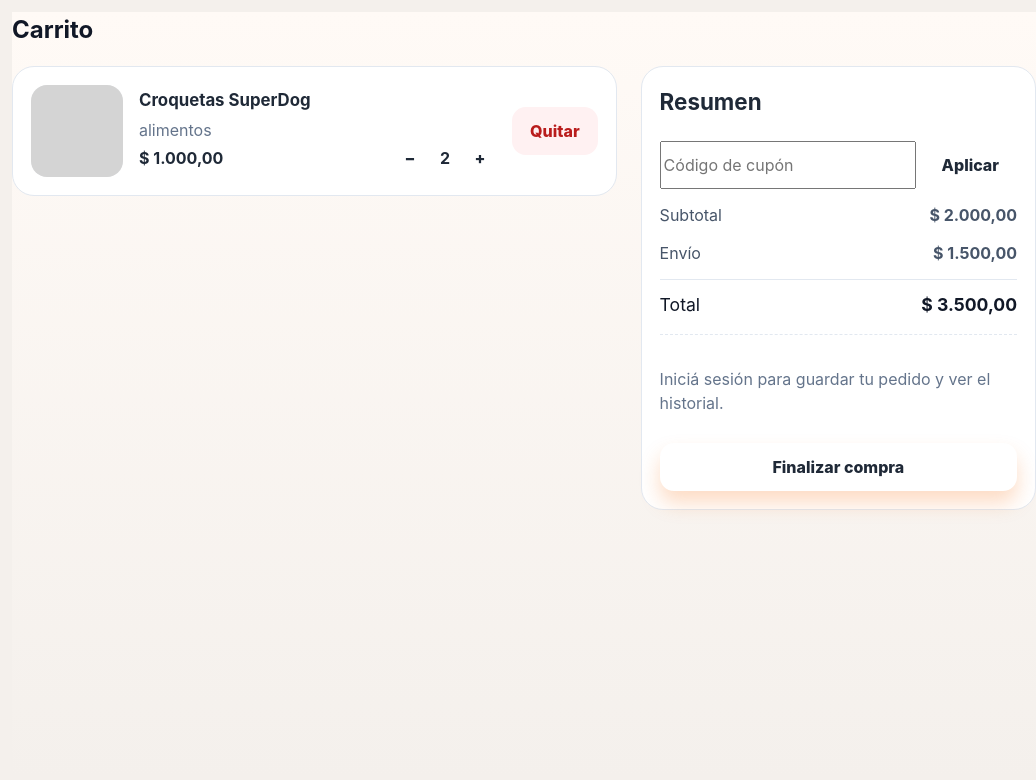
Test: CartScreen › shows an error message when the coupon is rejected
Step 1. Type "NOPE" into the field with placeholder "Código de cupón" → (788, 165), box [660,141,916,189]
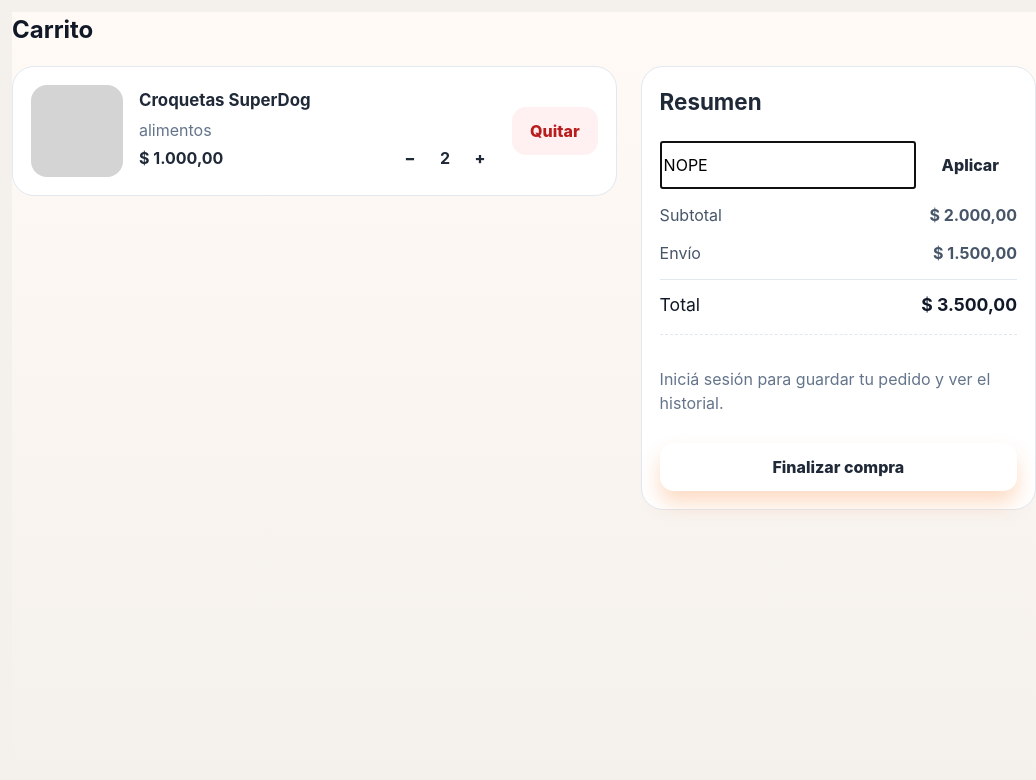
Step 2. Click the button "Aplicar" → (970, 165), box [924,141,1017,189]
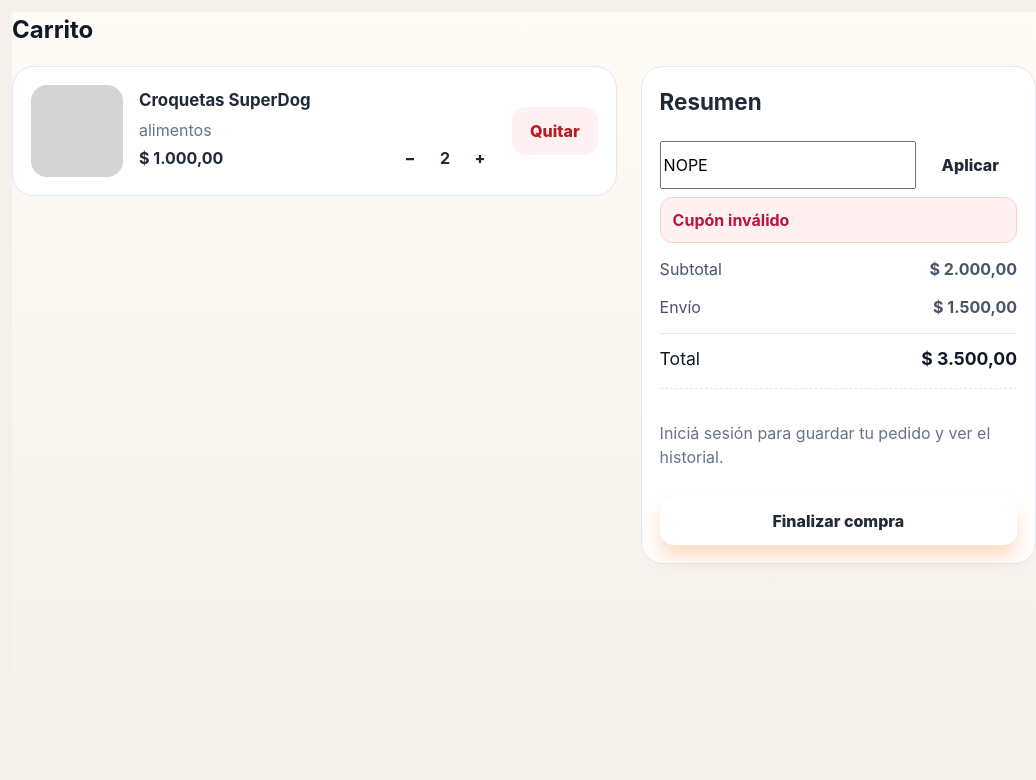
Expected: the text "Cupón inválido" is shown, [660,197,1017,243]
